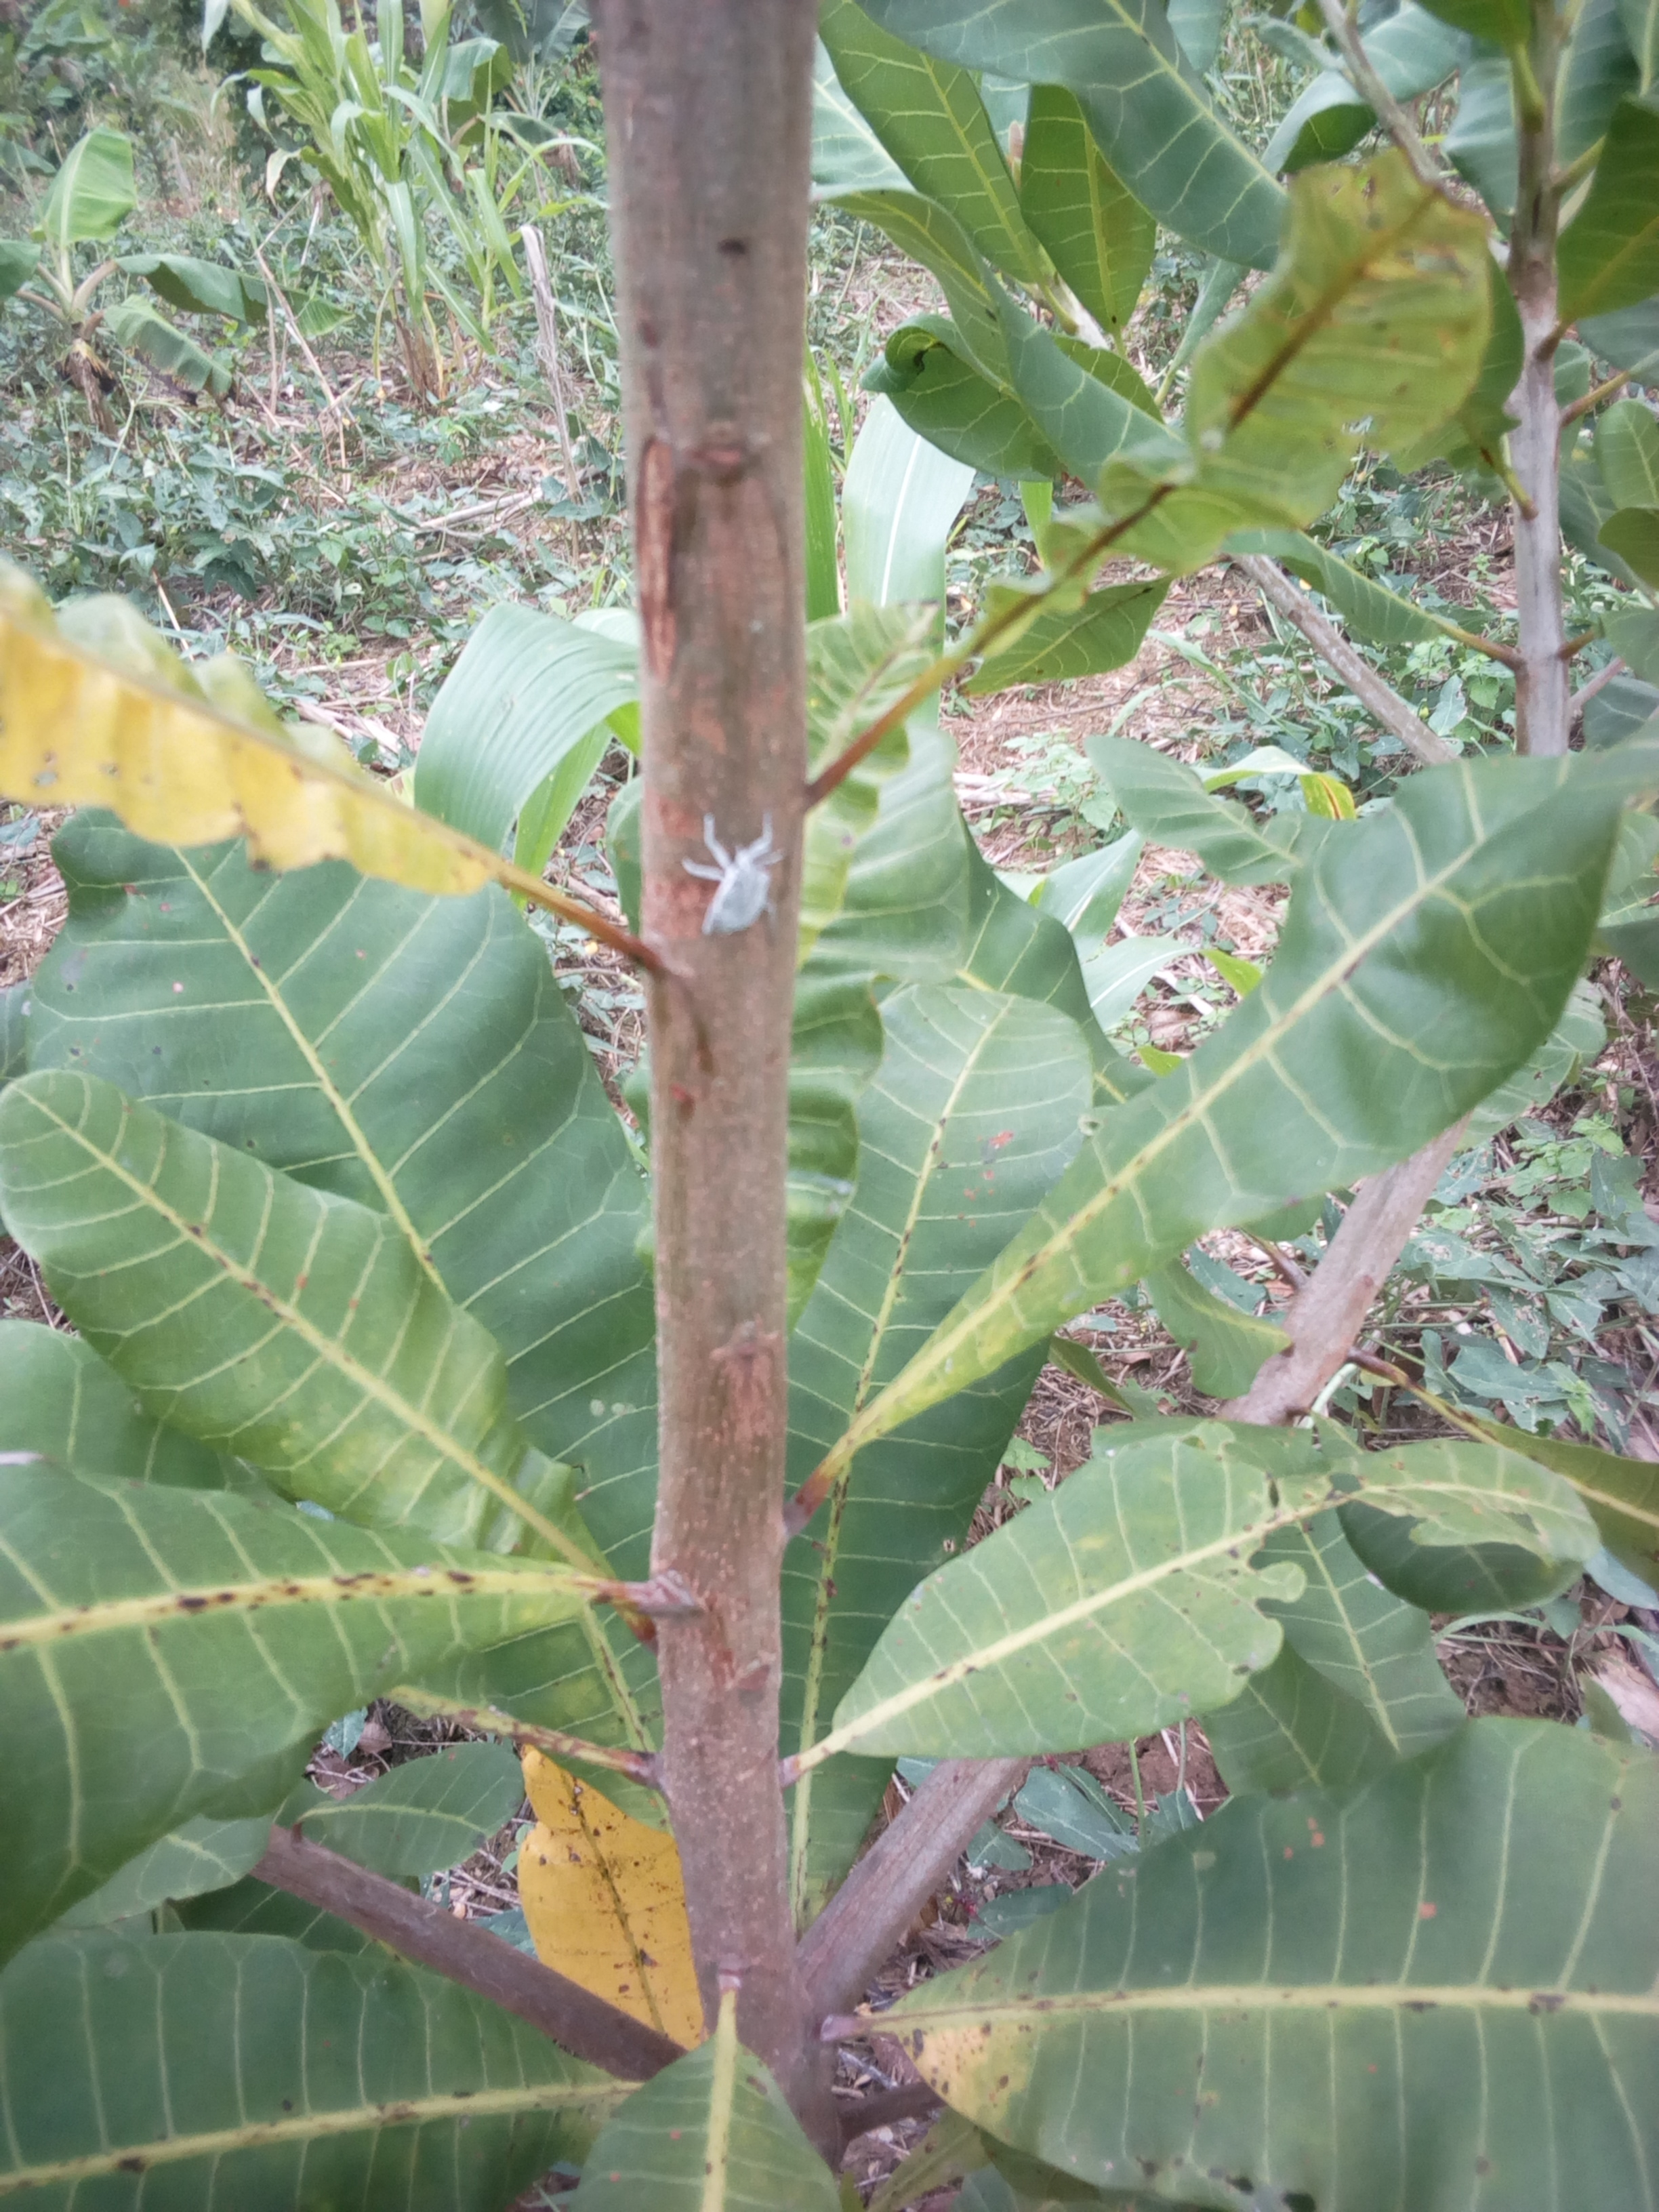Anthracnose: (870, 1773, 1640, 2200), (819, 1367, 1568, 1763), (0, 1503, 586, 1801), (525, 1740, 708, 2052)
